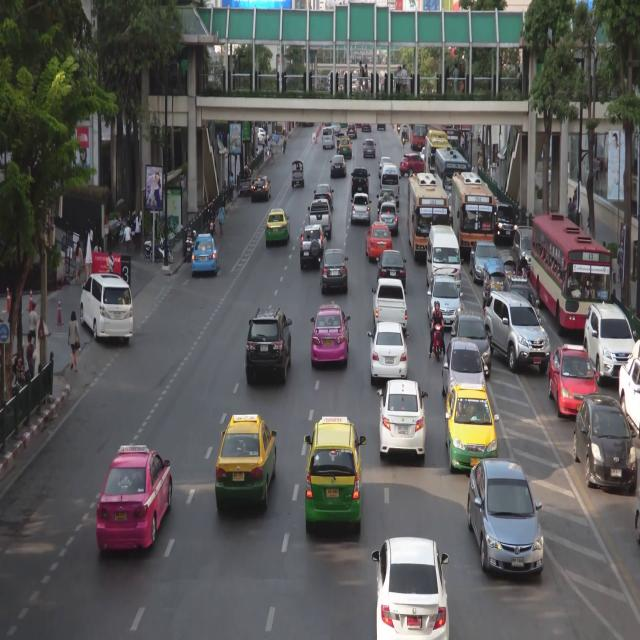bus: (533, 212, 608, 333), (451, 172, 493, 257), (409, 176, 450, 262), (436, 148, 469, 217), (425, 134, 447, 189), (433, 126, 460, 151), (410, 124, 426, 149)
car: (470, 459, 544, 578), (380, 537, 449, 640), (576, 405, 638, 498), (485, 294, 550, 371), (379, 379, 427, 461), (585, 308, 636, 385), (247, 305, 291, 388), (79, 278, 134, 342), (444, 341, 485, 402), (428, 226, 461, 298), (451, 316, 490, 375), (372, 322, 406, 378), (429, 279, 463, 331), (375, 277, 406, 330), (503, 273, 538, 316), (623, 347, 640, 428), (512, 227, 533, 277), (481, 262, 502, 311), (320, 248, 346, 287), (470, 244, 497, 278), (302, 226, 324, 265), (380, 165, 399, 206), (379, 252, 403, 283), (494, 203, 511, 242), (498, 249, 516, 285), (310, 202, 330, 234), (399, 154, 426, 176), (379, 204, 398, 233), (352, 194, 370, 224), (352, 169, 369, 196), (252, 176, 271, 200), (315, 184, 333, 207), (331, 155, 346, 175), (362, 139, 376, 160), (292, 160, 303, 186), (322, 128, 335, 149), (240, 171, 252, 193), (380, 190, 394, 207), (380, 158, 393, 167), (346, 125, 356, 136), (332, 124, 341, 134)
pedestrian: (69, 312, 78, 373), (29, 304, 37, 344), (133, 212, 141, 250), (75, 243, 82, 281), (27, 333, 33, 377), (125, 224, 132, 253), (219, 204, 225, 234), (229, 173, 235, 202), (107, 252, 114, 274), (223, 181, 227, 210), (568, 196, 573, 218), (270, 145, 275, 165), (586, 216, 590, 237), (268, 137, 271, 156), (283, 137, 286, 155), (574, 189, 577, 207), (262, 135, 265, 151), (96, 243, 101, 251)
taxi: (307, 421, 362, 535), (102, 456, 172, 544), (218, 417, 275, 510), (449, 387, 496, 470), (551, 345, 597, 419), (313, 302, 346, 366), (193, 233, 217, 275), (368, 220, 391, 261), (266, 208, 290, 247), (340, 138, 351, 158)
